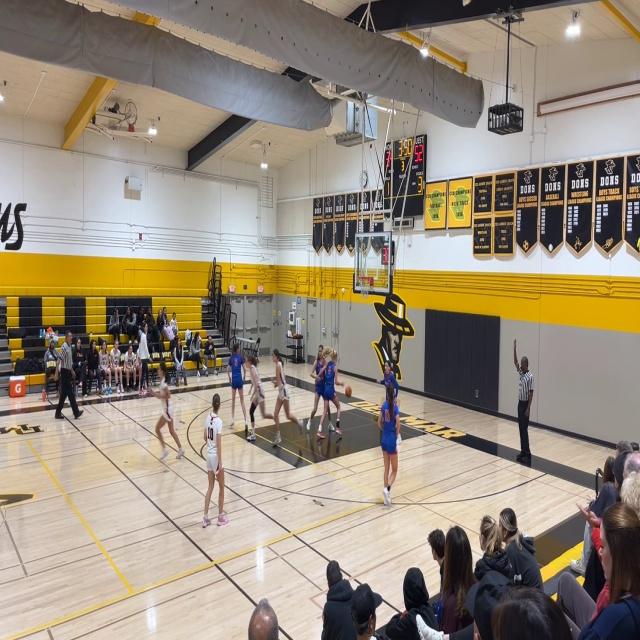Basketball: (344, 385, 352, 397)
